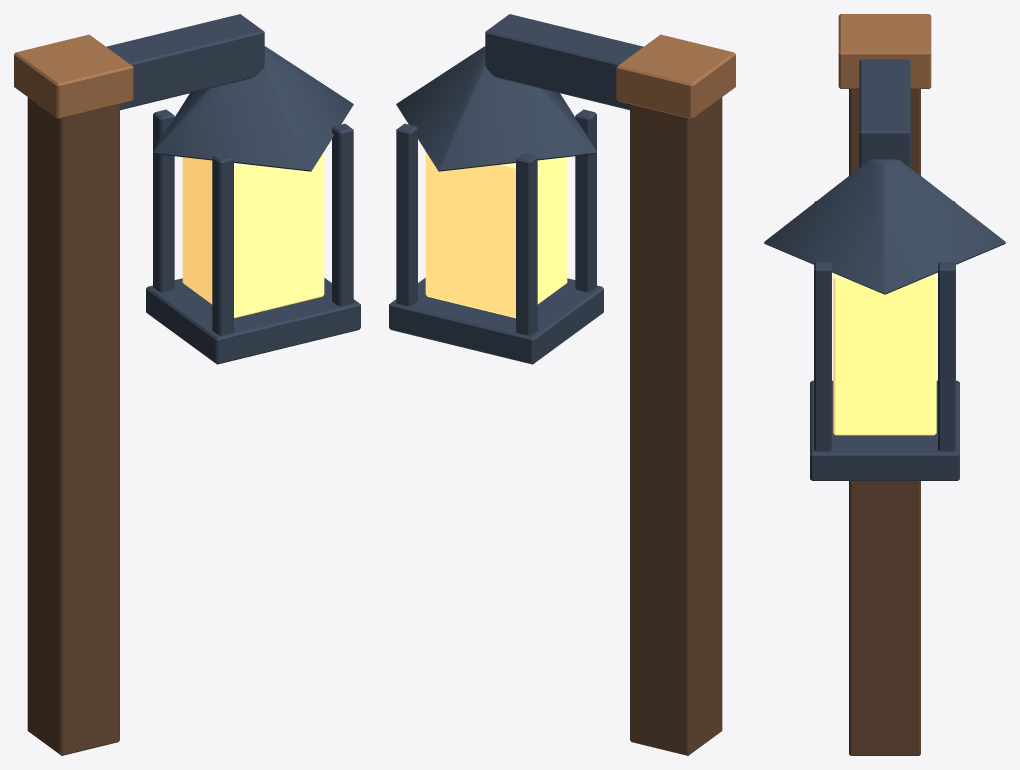
File: lantern_post_small_01.glb
The picture shows the model from 3 angles, left to right: view 1: azimuth 30°, elevation 25°; view 2: azimuth 150°, elevation 25°; view 3: azimuth 270°, elevation 25°; orthographic projection. The views are drawn at different scales.
Visible parts, largest first — view 1: lantern_post_small_01; view 2: lantern_post_small_01; view 3: lantern_post_small_01.
Boxes of the visible parts, x1,y1,x2,y2 form: lantern_post_small_01: (14,14,360,755); lantern_post_small_01: (389,14,735,755); lantern_post_small_01: (764,14,1005,755).
Size of the model in its own units: 0.7443 by 1.51 by 0.4687.
